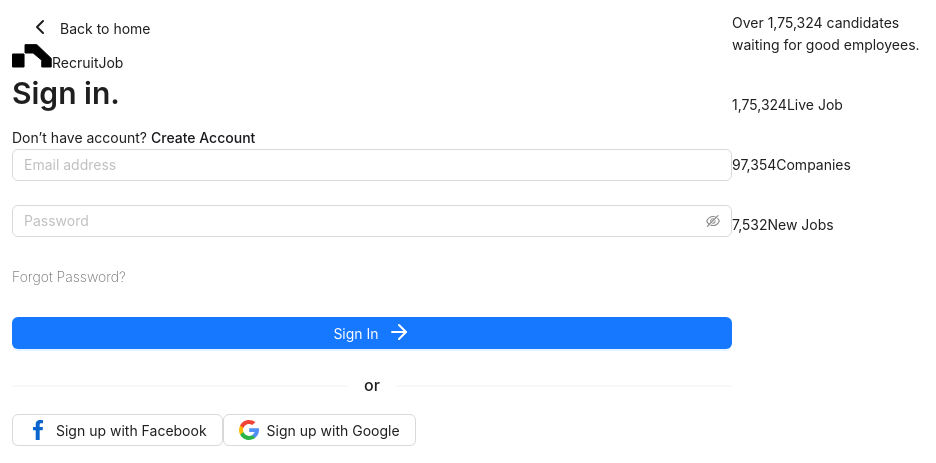
Test: TC001-TC008: Black-box - Boundary Testing › TC001: Email is required - Empty email field
Type "Valid123456" into the password field with test id "password-input" at {"x": 363, "y": 221}, box [24,210,702,232]
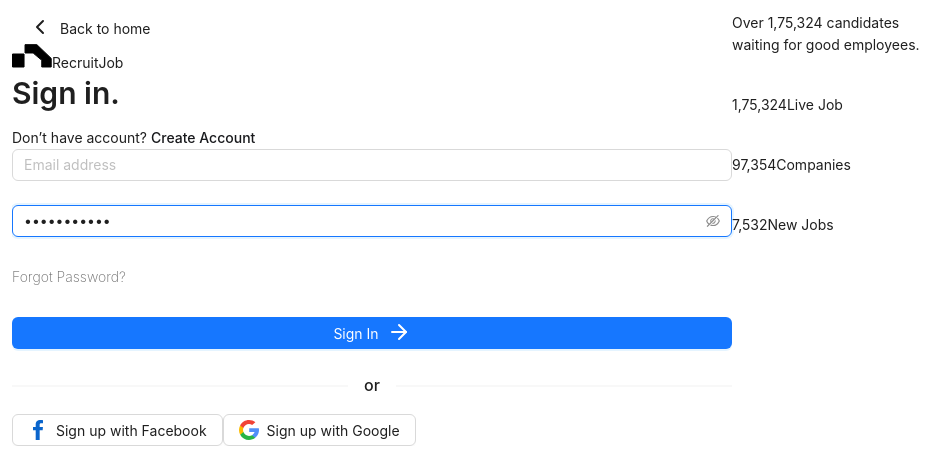
Click the submit button at {"x": 372, "y": 333}, box [12,317,732,349]
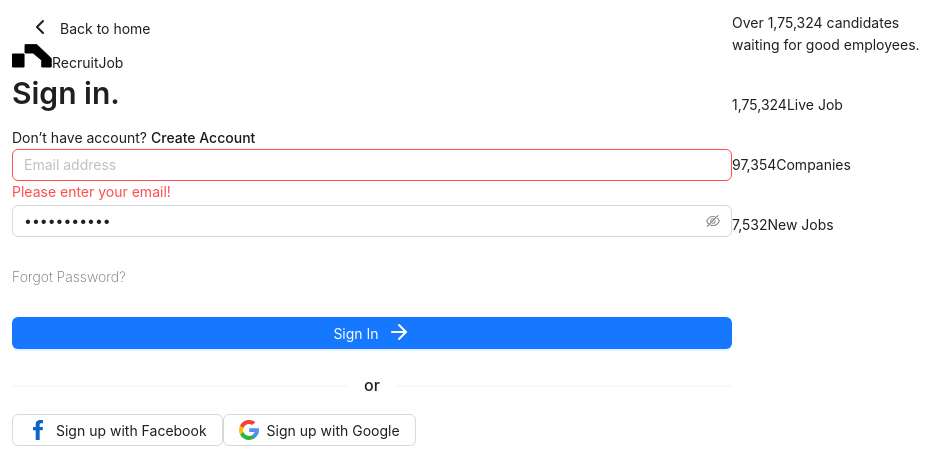
Expected: the text "Please enter your email!" is shown, [12,183,171,200]
